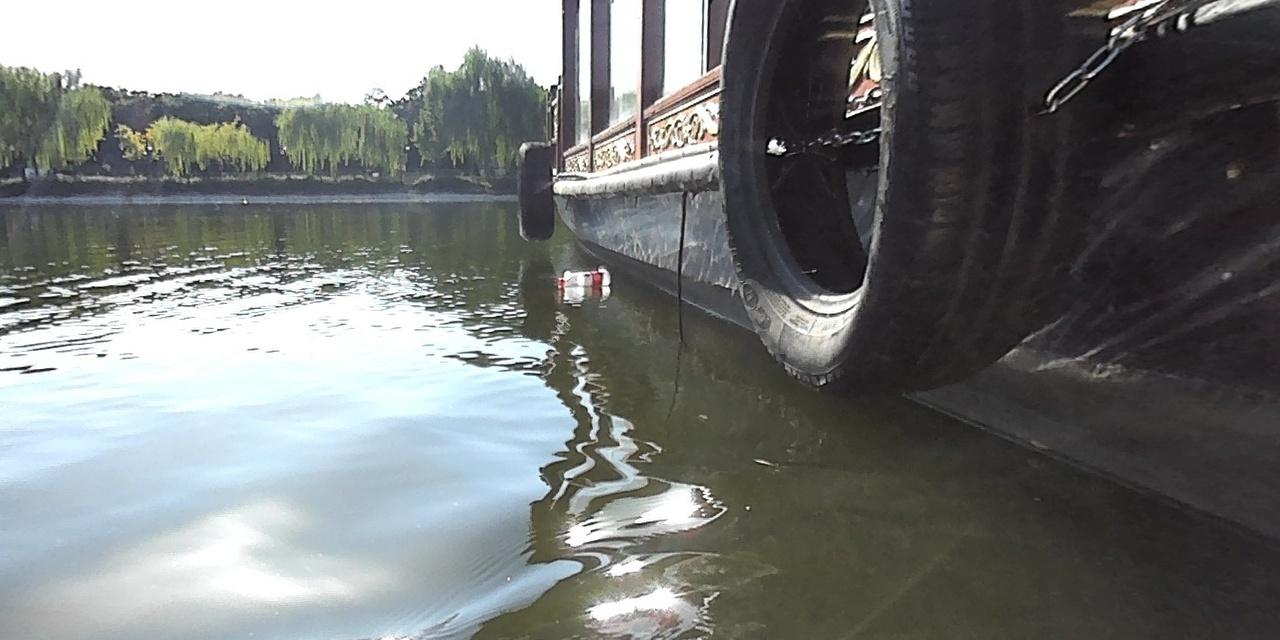bottle: (551, 268, 609, 287)
